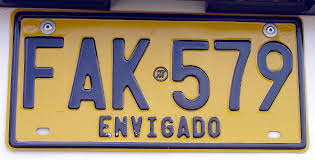number plate: (7, 10, 306, 149)
